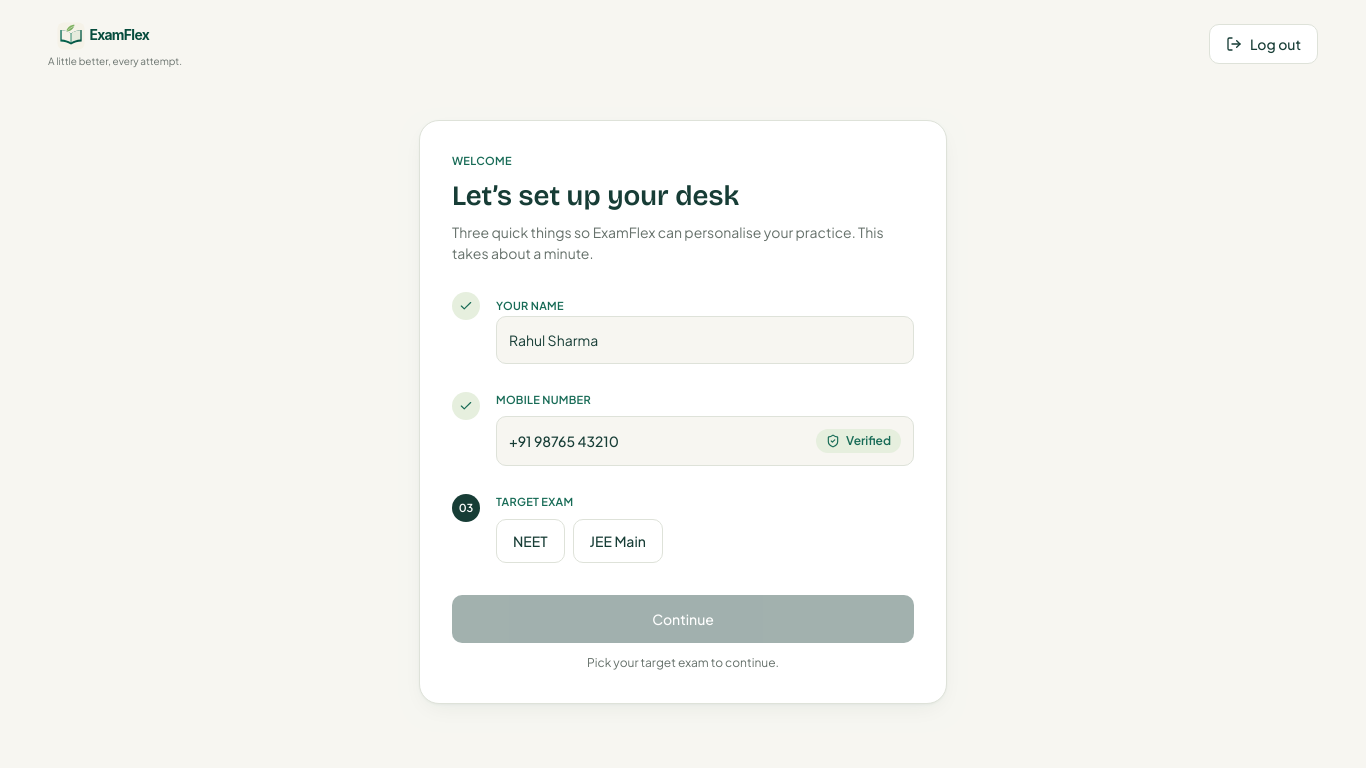
Test: OnboardingScreen › name › rejects
Clear the field labelled "Your name" at (705, 340), box [496,316,914,364]
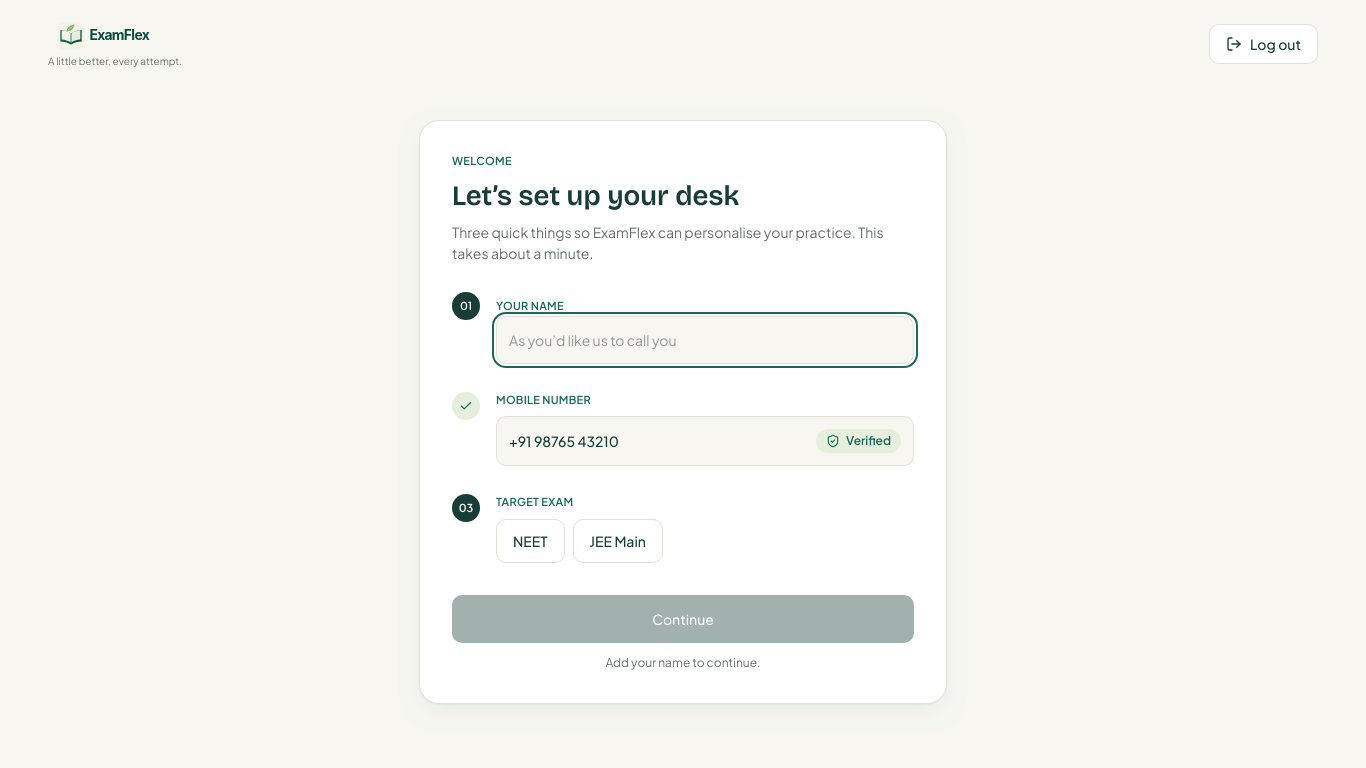
Press Tab
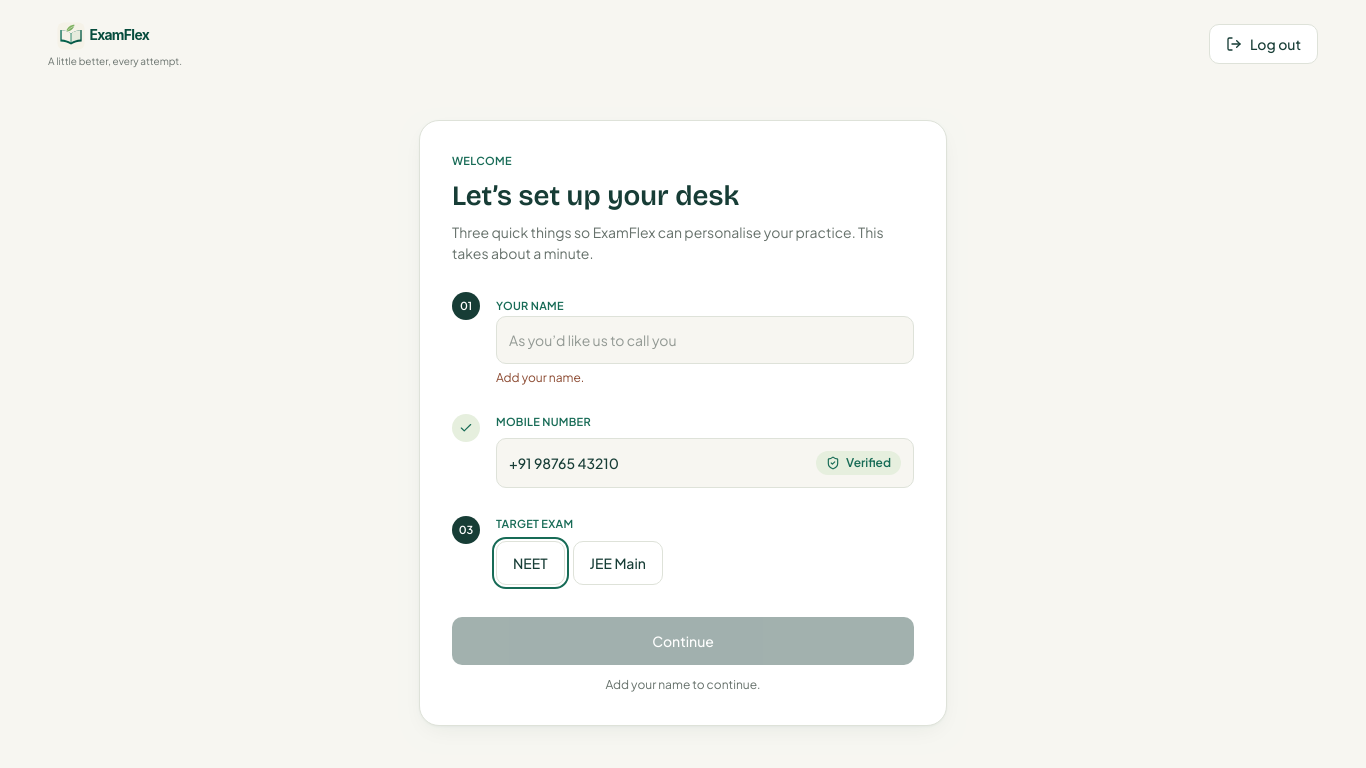
expect the message shows "Add your name": met, box [496,370,584,385]
